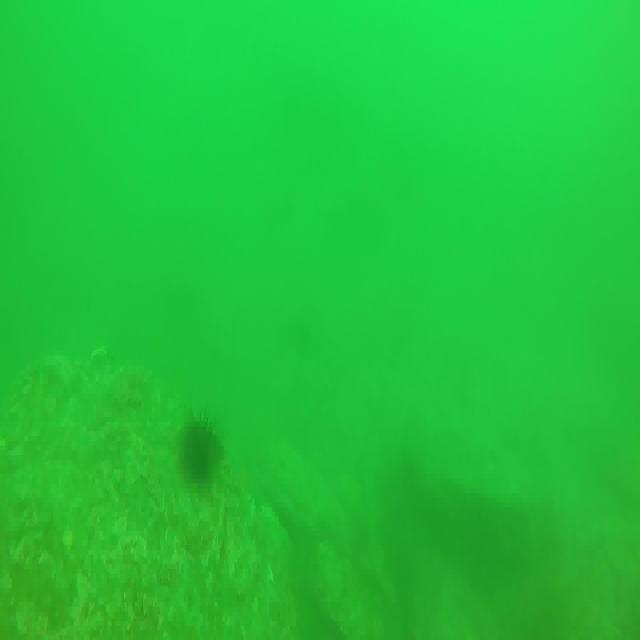echinus: (180, 415, 223, 490)
